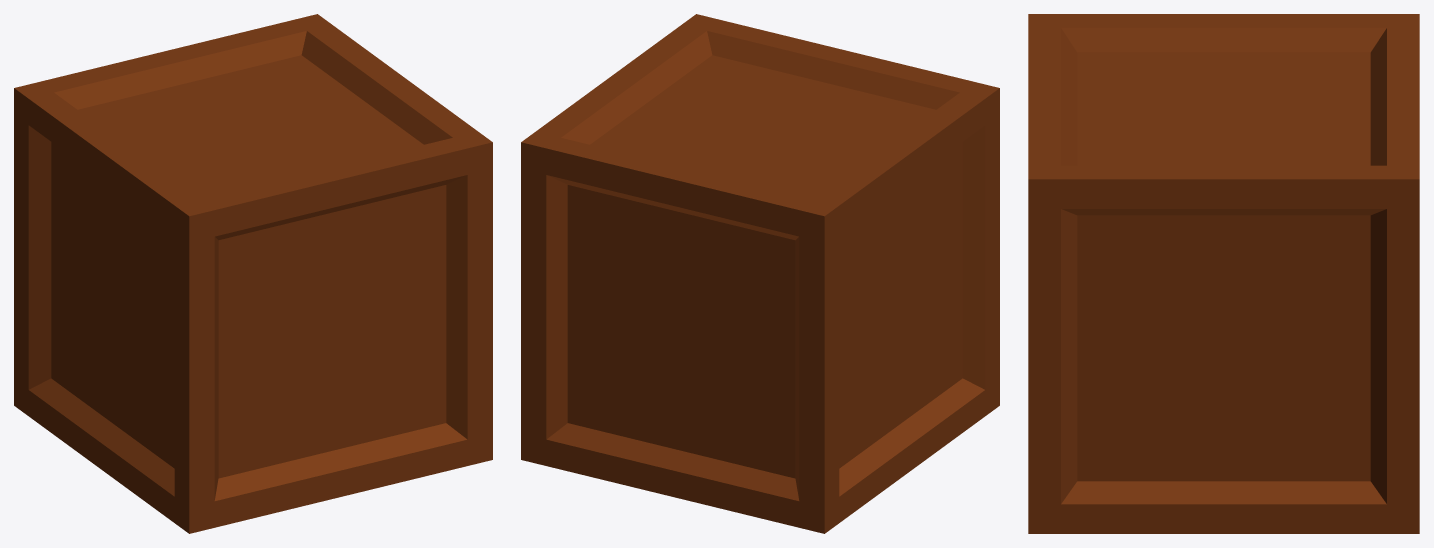
3 views of the same model, side by side, from view 1: azimuth 30°, elevation 25°; view 2: azimuth 150°, elevation 25°; view 3: azimuth 270°, elevation 25° (orthographic). The views are drawn at different scales.
Visible parts, largest first — view 1: box; view 2: box; view 3: box.
Part boxes in pixels (x1,y1,x2,y2): box: (14,14,492,533); box: (521,14,999,533); box: (1028,14,1419,533).
Size of the model in its own units: 0.4 by 0.4 by 0.4.
